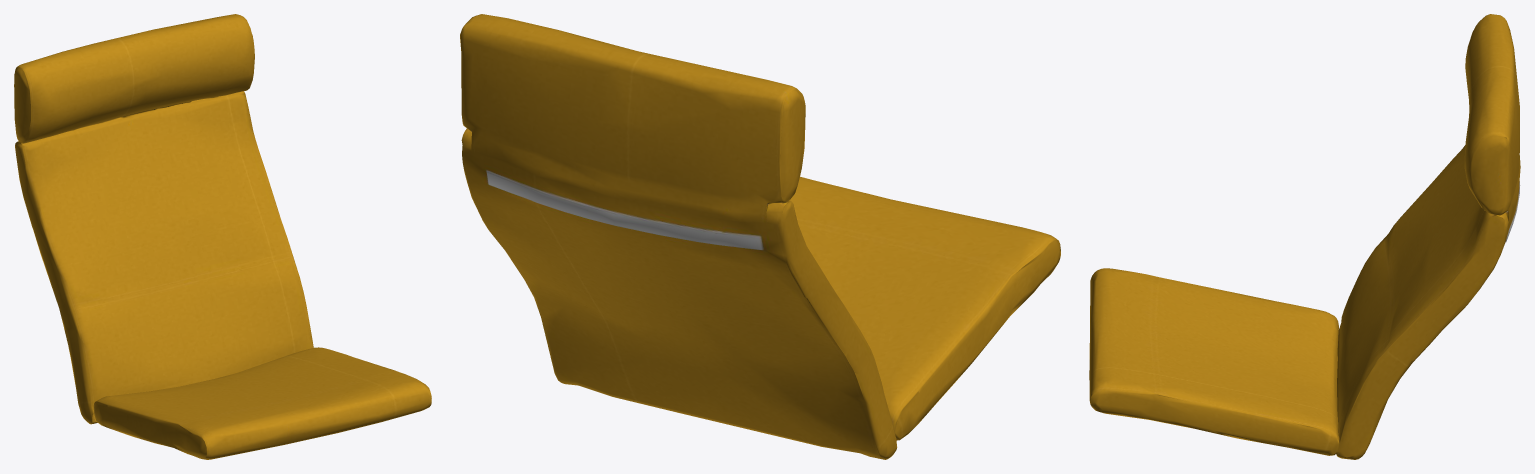
Rendered from poang_poduszka_fotela_00624908.glb.
The picture shows the model from 3 angles, left to right: view 1: azimuth 30°, elevation 25°; view 2: azimuth 150°, elevation 25°; view 3: azimuth 270°, elevation 25°; orthographic projection. The views are drawn at different scales.
Parts seen in each view (by area): view 1: poang_poduszka_fotela_00624908; view 2: poang_poduszka_fotela_00624908; view 3: poang_poduszka_fotela_00624908.
Boxes of the visible parts, left/top/right/bottom form: poang_poduszka_fotela_00624908: left=14, top=14, right=431, bottom=459; poang_poduszka_fotela_00624908: left=460, top=14, right=1060, bottom=459; poang_poduszka_fotela_00624908: left=1089, top=14, right=1520, bottom=459.
Size of the model in its own units: 0.5666 by 0.7252 by 0.8522.
Materials: 1 (1 with a texture image).
